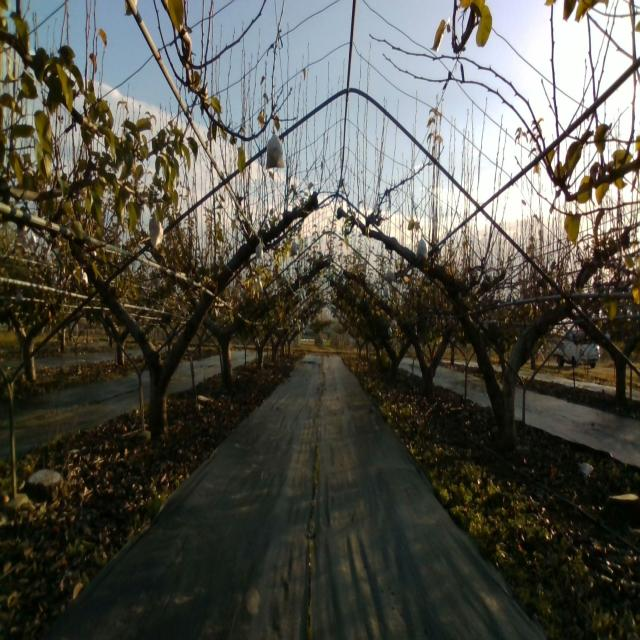pearbags: (265, 125, 285, 170), (149, 218, 163, 248), (416, 234, 428, 260)
